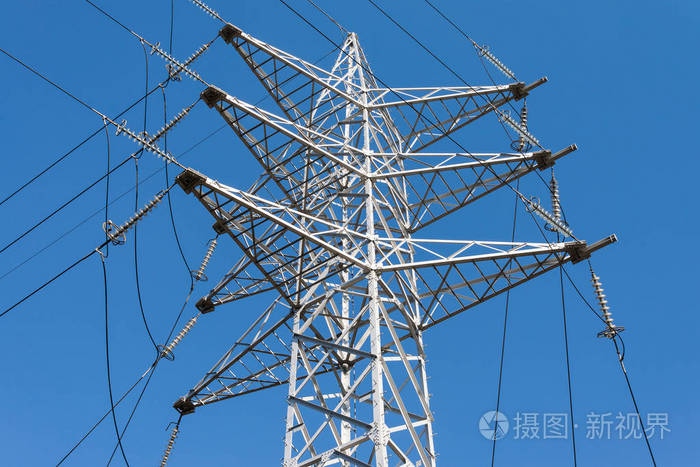insulator: (111, 197, 161, 240), (531, 199, 578, 240), (154, 45, 205, 82), (121, 126, 174, 161), (589, 271, 615, 328), (151, 107, 190, 140), (506, 112, 542, 144), (482, 50, 518, 78), (157, 427, 181, 467), (169, 315, 198, 348), (189, 3, 219, 19)
